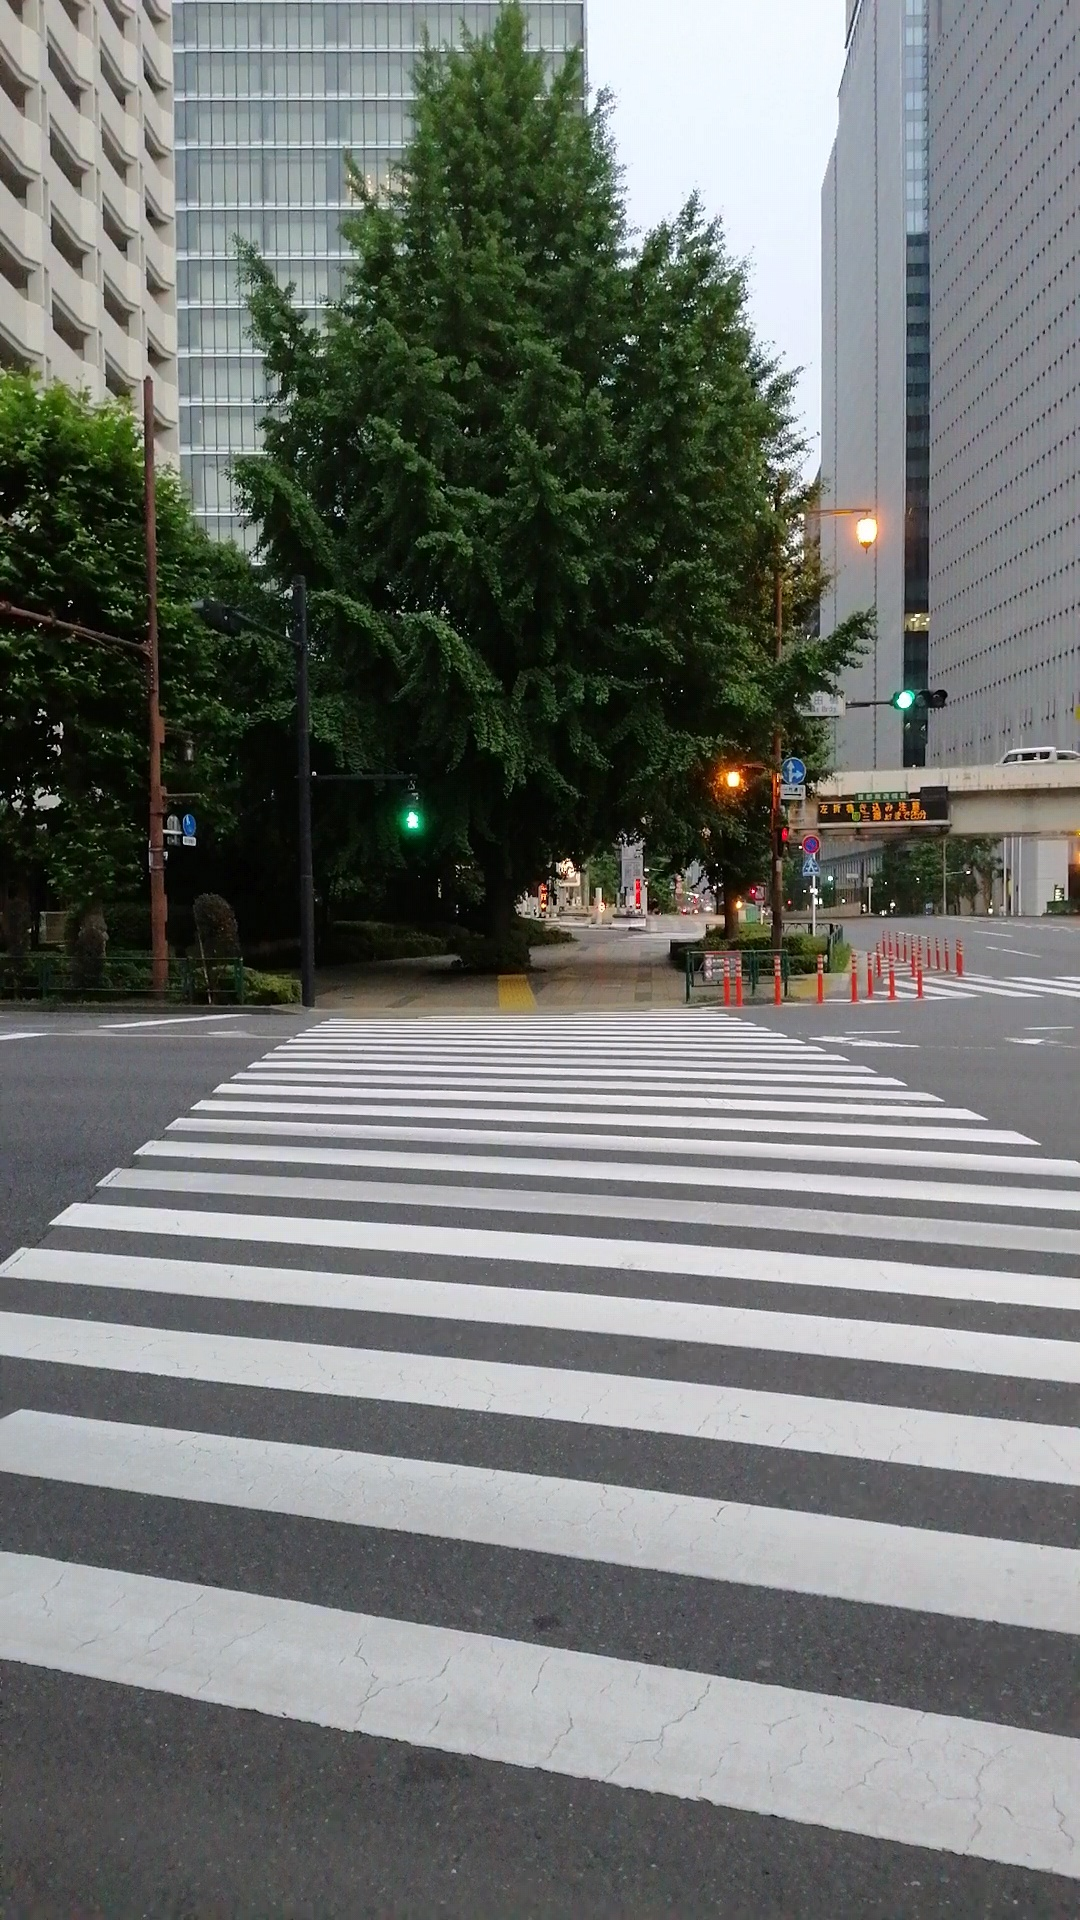green: (396, 785, 427, 835)
